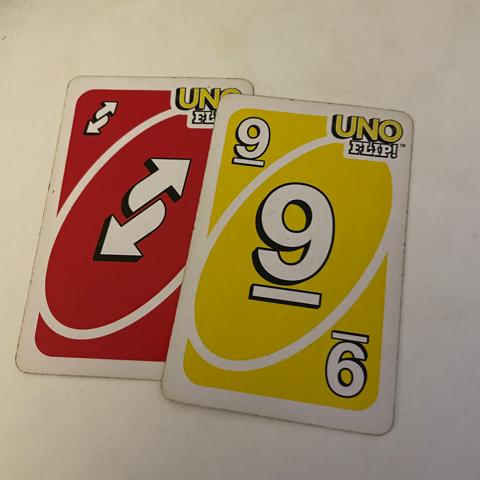lredrevers-20: (74, 86, 128, 147)
lyellow-9: (225, 105, 275, 174)
